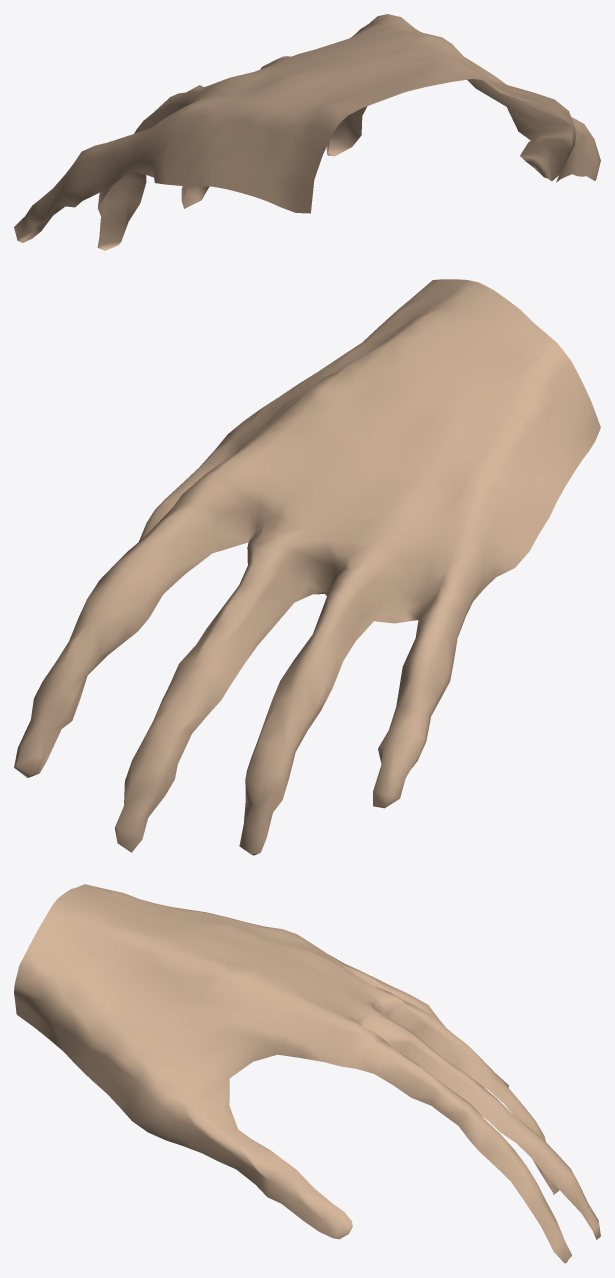
3 renders of one model, top to bottom at view 1: azimuth 30°, elevation 25°; view 2: azimuth 150°, elevation 25°; view 3: azimuth 270°, elevation 25°, orthographic. The views are drawn at different scales.
Visible parts, largest first — view 1: 左侧手背筋膜; view 2: 左侧手背筋膜; view 3: 左侧手背筋膜.
Part boxes in pixels (x1,y1,x2,y2): 左侧手背筋膜: [14, 14, 600, 250]; 左侧手背筋膜: [14, 279, 600, 855]; 左侧手背筋膜: [14, 884, 600, 1263].
Bounding box in the file's own units: 0.1623 × 0.1369 × 0.2307.
